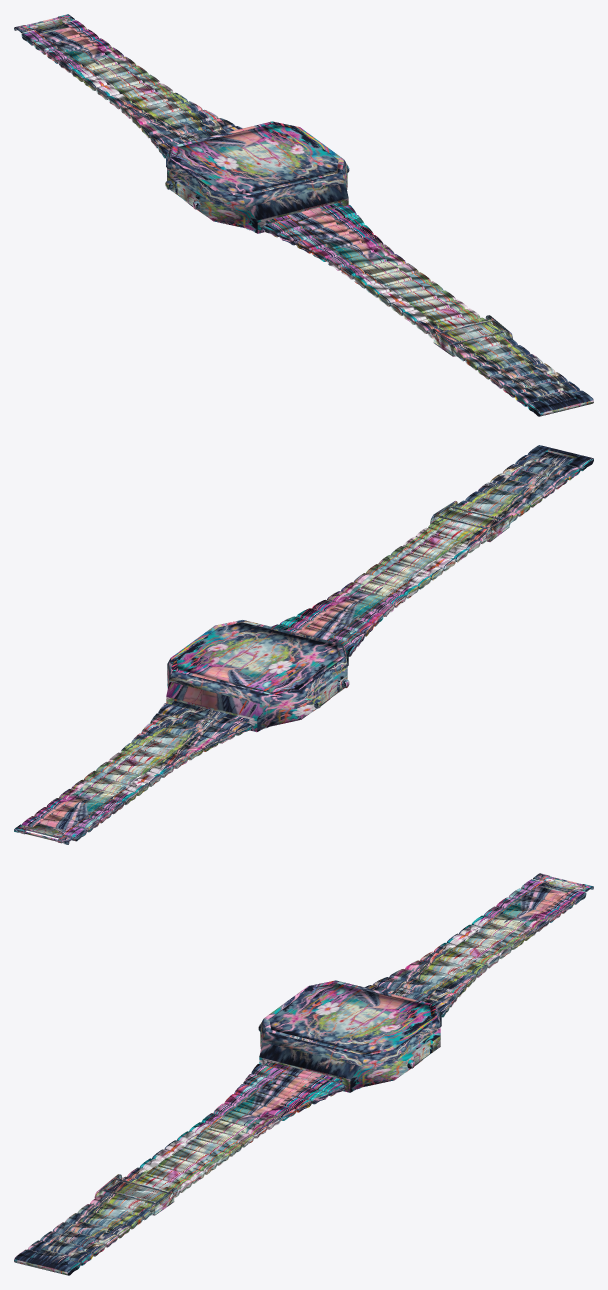
Rendered from ph_digital_wrist_watch.glb.
3 renders of one model, top to bottom at view 1: azimuth 30°, elevation 25°; view 2: azimuth 150°, elevation 25°; view 3: azimuth 330°, elevation 25°, orthographic.
Visible parts, largest first — view 1: A; view 2: A; view 3: A.
Boxes of the visible parts, x1,y1,x2,y2 form: A: [14, 14, 593, 416]; A: [14, 445, 593, 844]; A: [14, 873, 593, 1275].
Bounding box in the file's own units: 0.336 × 0.0768 × 2.
Materials: 5 (5 with a texture image).
